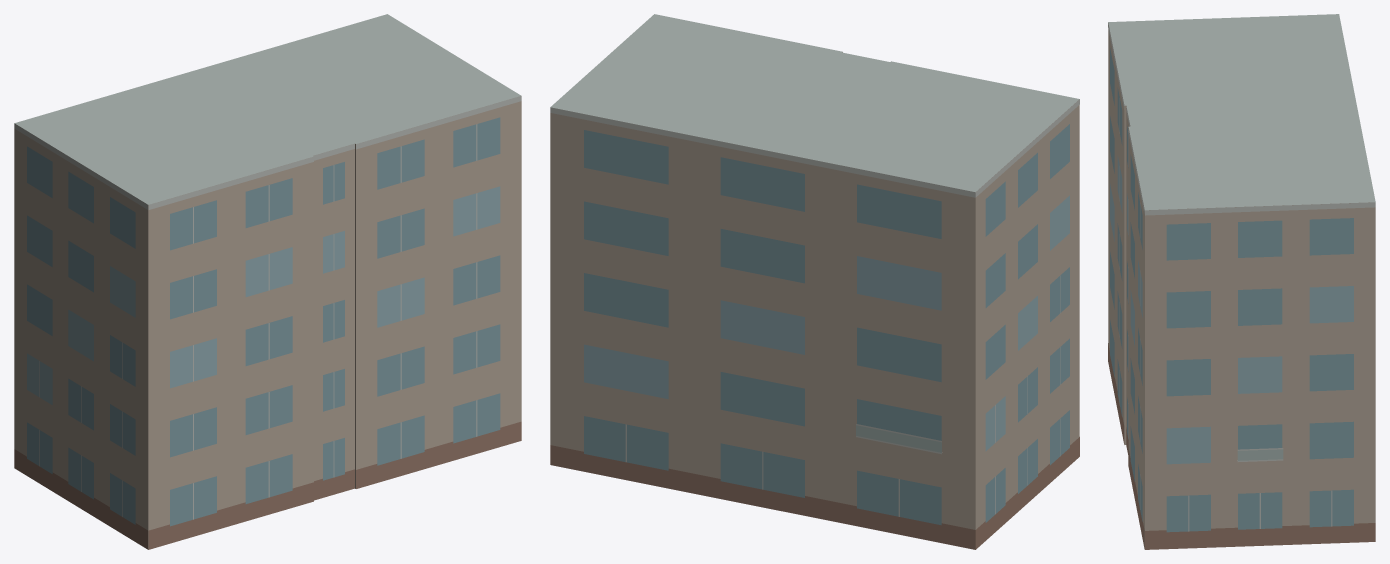
The model's file is survey-upis-32725222.glb.
The picture shows the model from 3 angles, left to right: view 1: azimuth 30°, elevation 25°; view 2: azimuth 150°, elevation 25°; view 3: azimuth 270°, elevation 25°; orthographic projection. The views are drawn at different scales.
Parts seen in each view (by area): view 1: survey-upis-32725222.tmp; view 2: survey-upis-32725222.tmp; view 3: survey-upis-32725222.tmp.
Boxes of the visible parts, x1=… form: survey-upis-32725222.tmp: x1=14, y1=14, x2=521, y2=549; survey-upis-32725222.tmp: x1=550, y1=14, x2=1079, y2=549; survey-upis-32725222.tmp: x1=1108, y1=14, x2=1375, y2=549.
Size of the model in its own units: 19.59 by 15.8 by 11.29.
